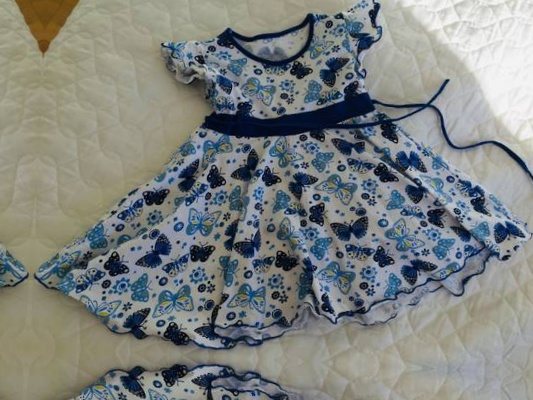Dress: (34, 1, 533, 364), (14, 358, 526, 400), (0, 0, 39, 337), (0, 330, 20, 400)
